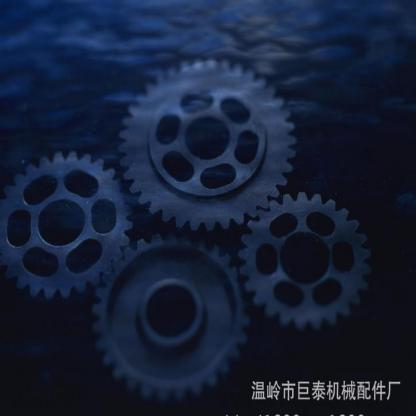FOD: (116, 52, 298, 236), (88, 226, 251, 410), (236, 185, 374, 340), (0, 147, 133, 306)
